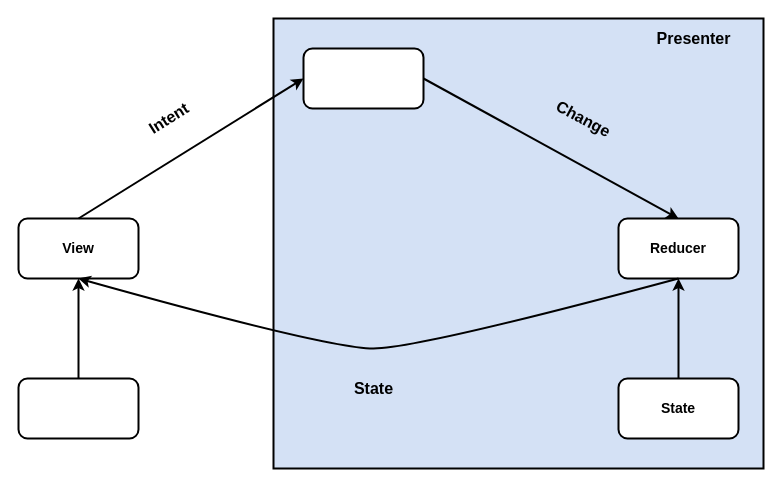
Some shapes in this 781 by 486 pixel diagram are drawn without their labels. The shapes that lost their labels are listed below. From the top down, each one's centre as x and y in pixels, then its label:
At pixel 363 78: "Action".
At pixel 78 408: "User".
